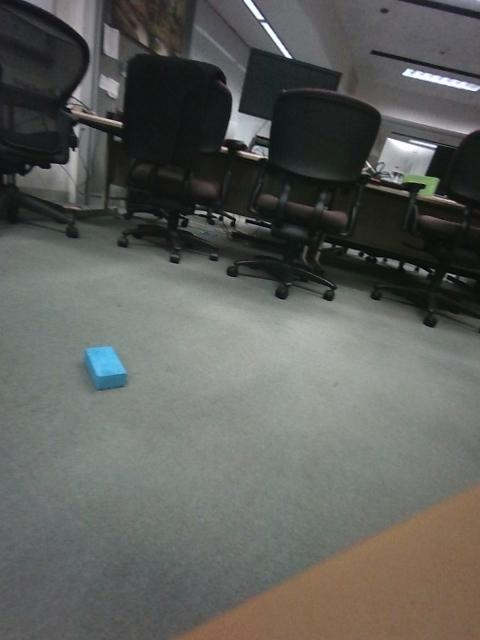block: (164, 304, 212, 361)
